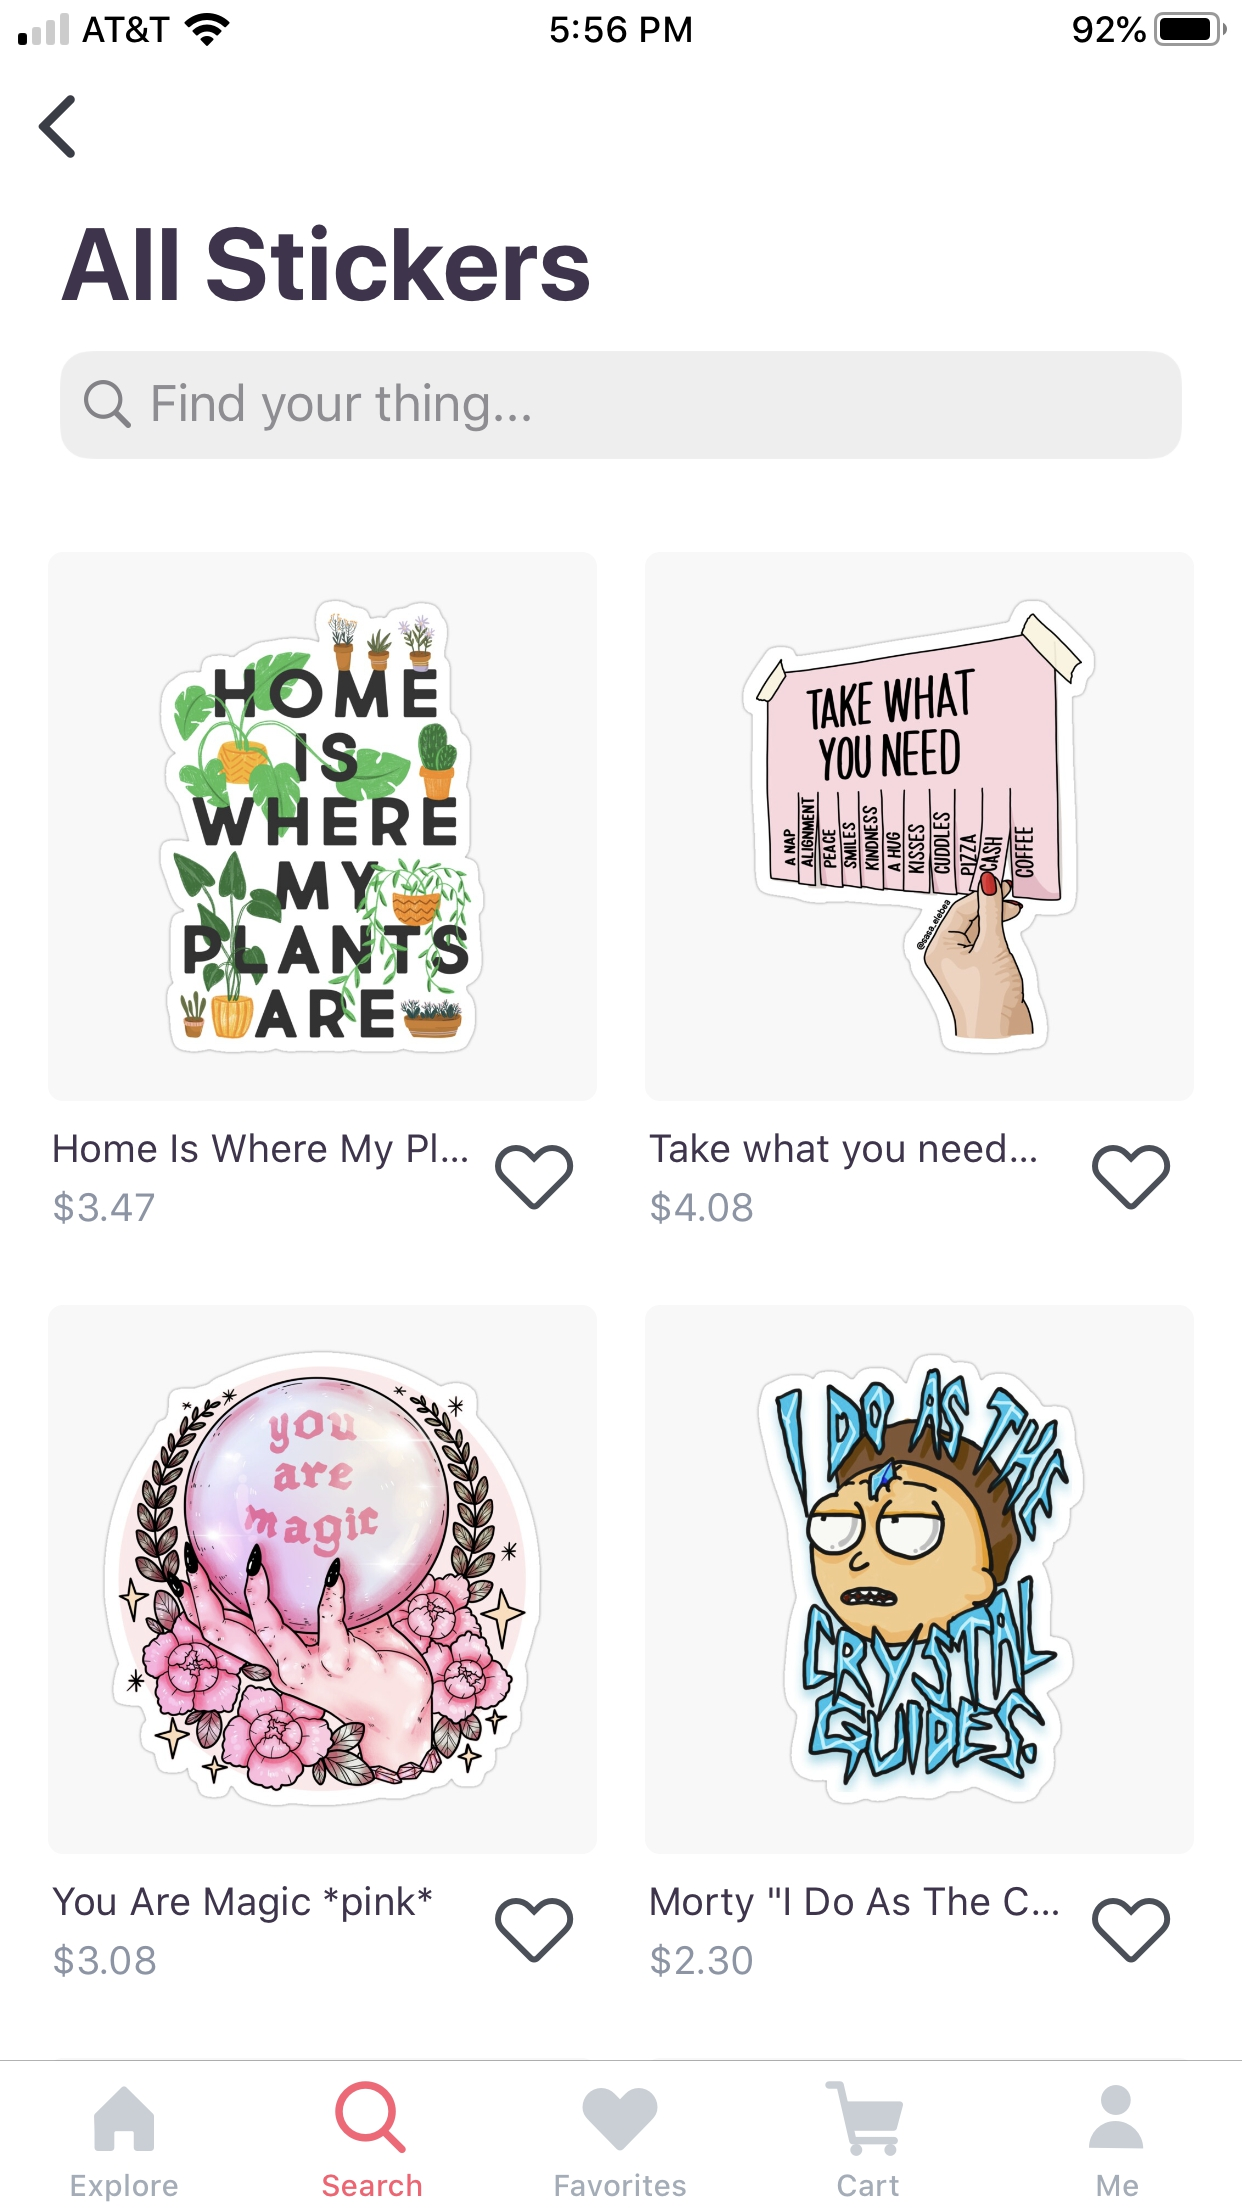EditText: (61, 350, 1181, 459)
Icon: (825, 2081, 902, 2156), (334, 2081, 406, 2153), (494, 1145, 575, 1210), (1090, 1145, 1171, 1210), (1092, 1897, 1171, 1962), (494, 1899, 575, 1962), (582, 2087, 658, 2150), (94, 2085, 155, 2150), (1089, 2084, 1143, 2149), (38, 96, 74, 158), (83, 381, 130, 428)
Image: (49, 552, 597, 1101), (645, 552, 1193, 1101), (645, 1306, 1193, 1855), (49, 1306, 597, 1855)
Text: (61, 224, 590, 303), (153, 384, 529, 432), (55, 1133, 467, 1171), (651, 1885, 1059, 1923), (649, 1133, 1036, 1171), (52, 1887, 432, 1921), (55, 1943, 158, 1977), (651, 1943, 752, 1977), (651, 1190, 754, 1224), (555, 2172, 685, 2197), (55, 1190, 155, 1224), (71, 2172, 177, 2200), (321, 2173, 422, 2197), (837, 2173, 899, 2197), (1096, 2173, 1137, 2197)
UpperTaskBar: (2, 2, 1242, 49)
